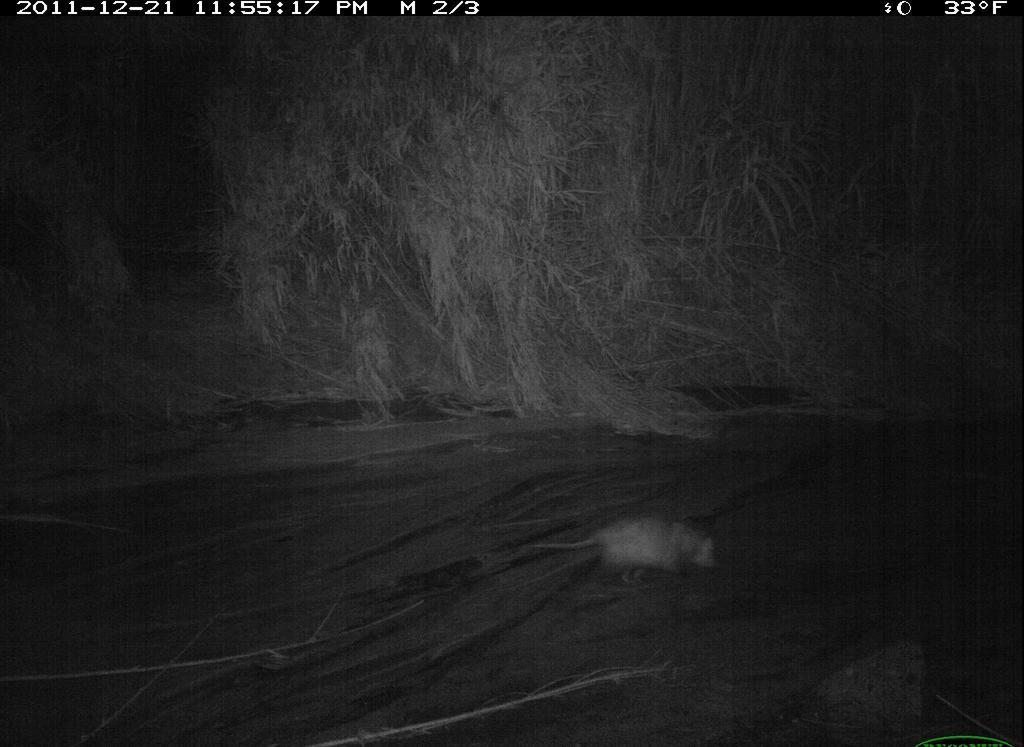opossum: (511, 493, 727, 586)
